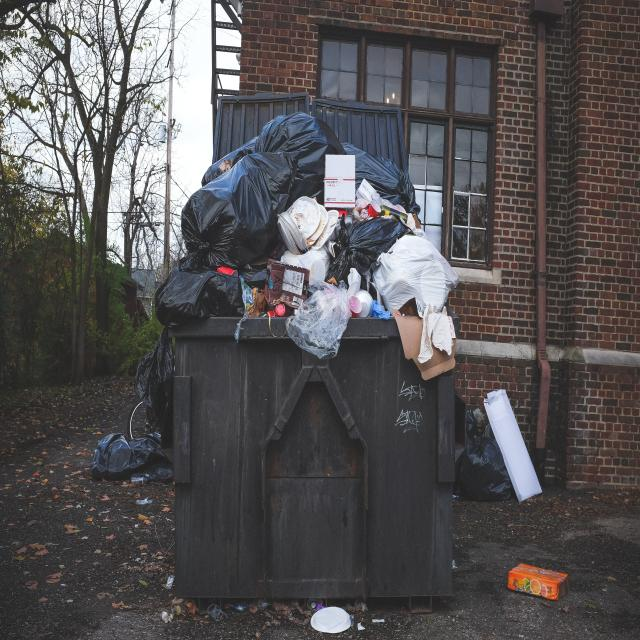Metal: (168, 322, 456, 606)
